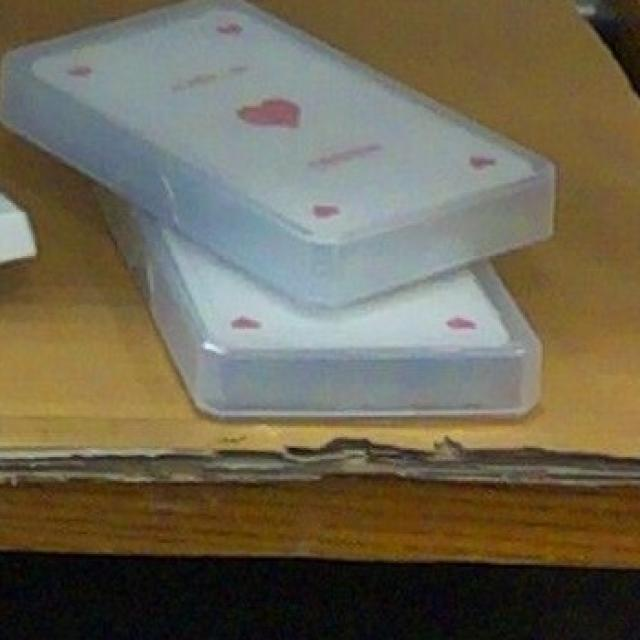Jasskarte: (0, 0, 554, 304), (104, 196, 539, 419)
